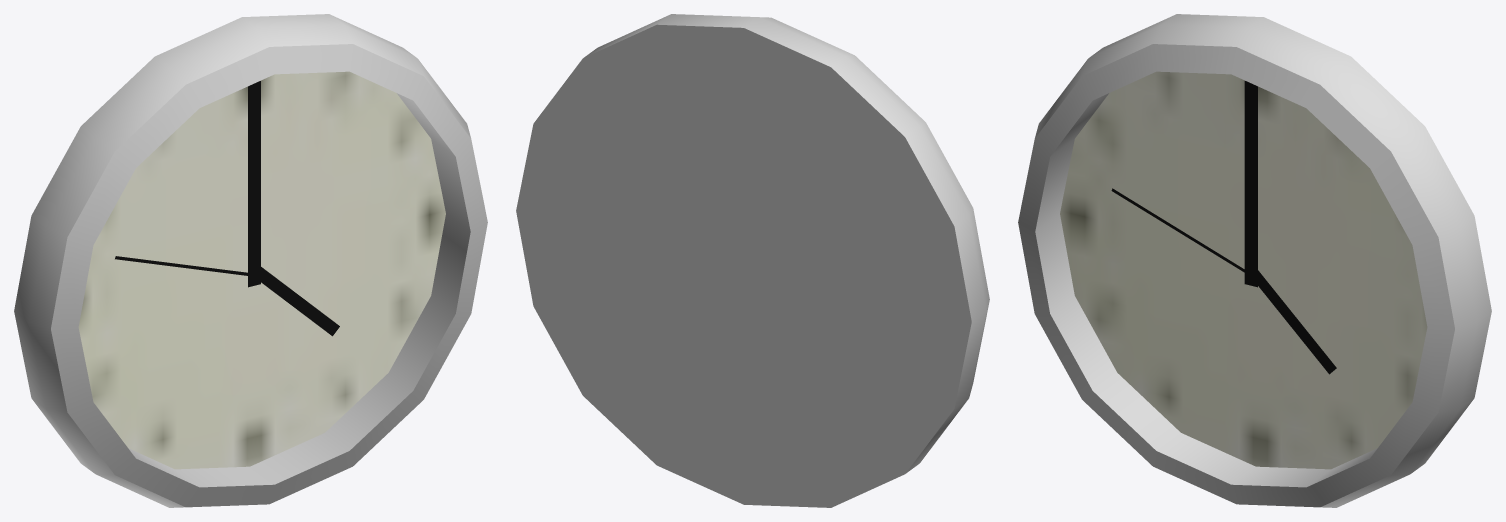
File: wall-clock.gltf
3 views of the same model, side by side, from view 1: azimuth 30°, elevation 25°; view 2: azimuth 150°, elevation 25°; view 3: azimuth 330°, elevation 25° (orthographic).
Visible parts, largest first — view 1: Cylinder; view 2: Cylinder; view 3: Cylinder.
Part boxes in pixels (x1,y1,x2,y2): Cylinder: (14, 14, 487, 507); Cylinder: (516, 14, 989, 507); Cylinder: (1018, 14, 1491, 507).
Size of the model in its own units: 0.3 by 0.3 by 0.0373.
Materials: 3 (1 with a texture image).
